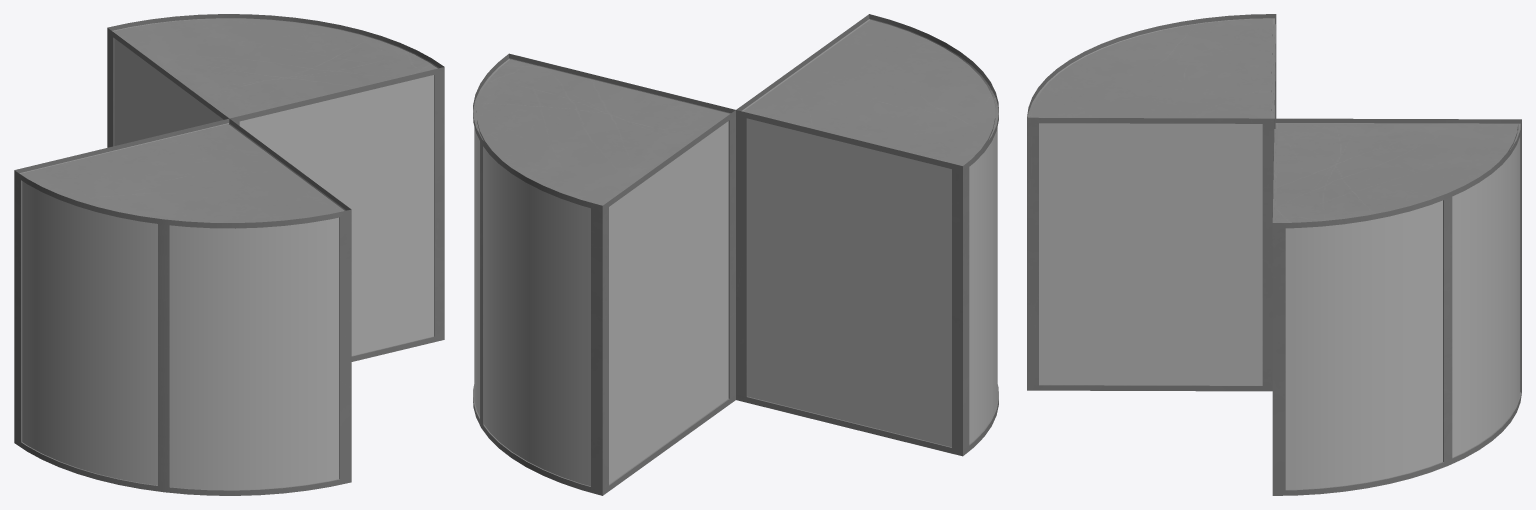
The model's file is SM_Entrance_Rotating_01_Door.fbx.
3 renders of one model, left to right at view 1: azimuth 30°, elevation 25°; view 2: azimuth 150°, elevation 25°; view 3: azimuth 270°, elevation 25°, orthographic. The views are drawn at different scales.
Visible parts, largest first — view 1: SM_Entrance_Rotating_01_Door_LOD0; view 2: SM_Entrance_Rotating_01_Door_LOD0; view 3: SM_Entrance_Rotating_01_Door_LOD0.
Part boxes in pixels (<box>): SM_Entrance_Rotating_01_Door_LOD0: <box>14,14,444,495</box>; SM_Entrance_Rotating_01_Door_LOD0: <box>473,14,998,495</box>; SM_Entrance_Rotating_01_Door_LOD0: <box>1027,14,1521,495</box>.
Size of the model in its own units: 417 by 417 by 254.
